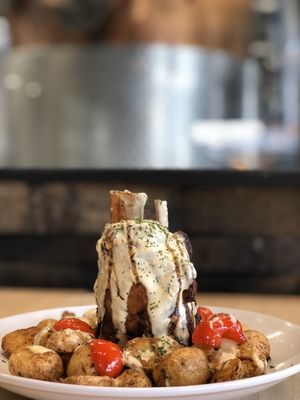sushi: (92, 190, 200, 348)
